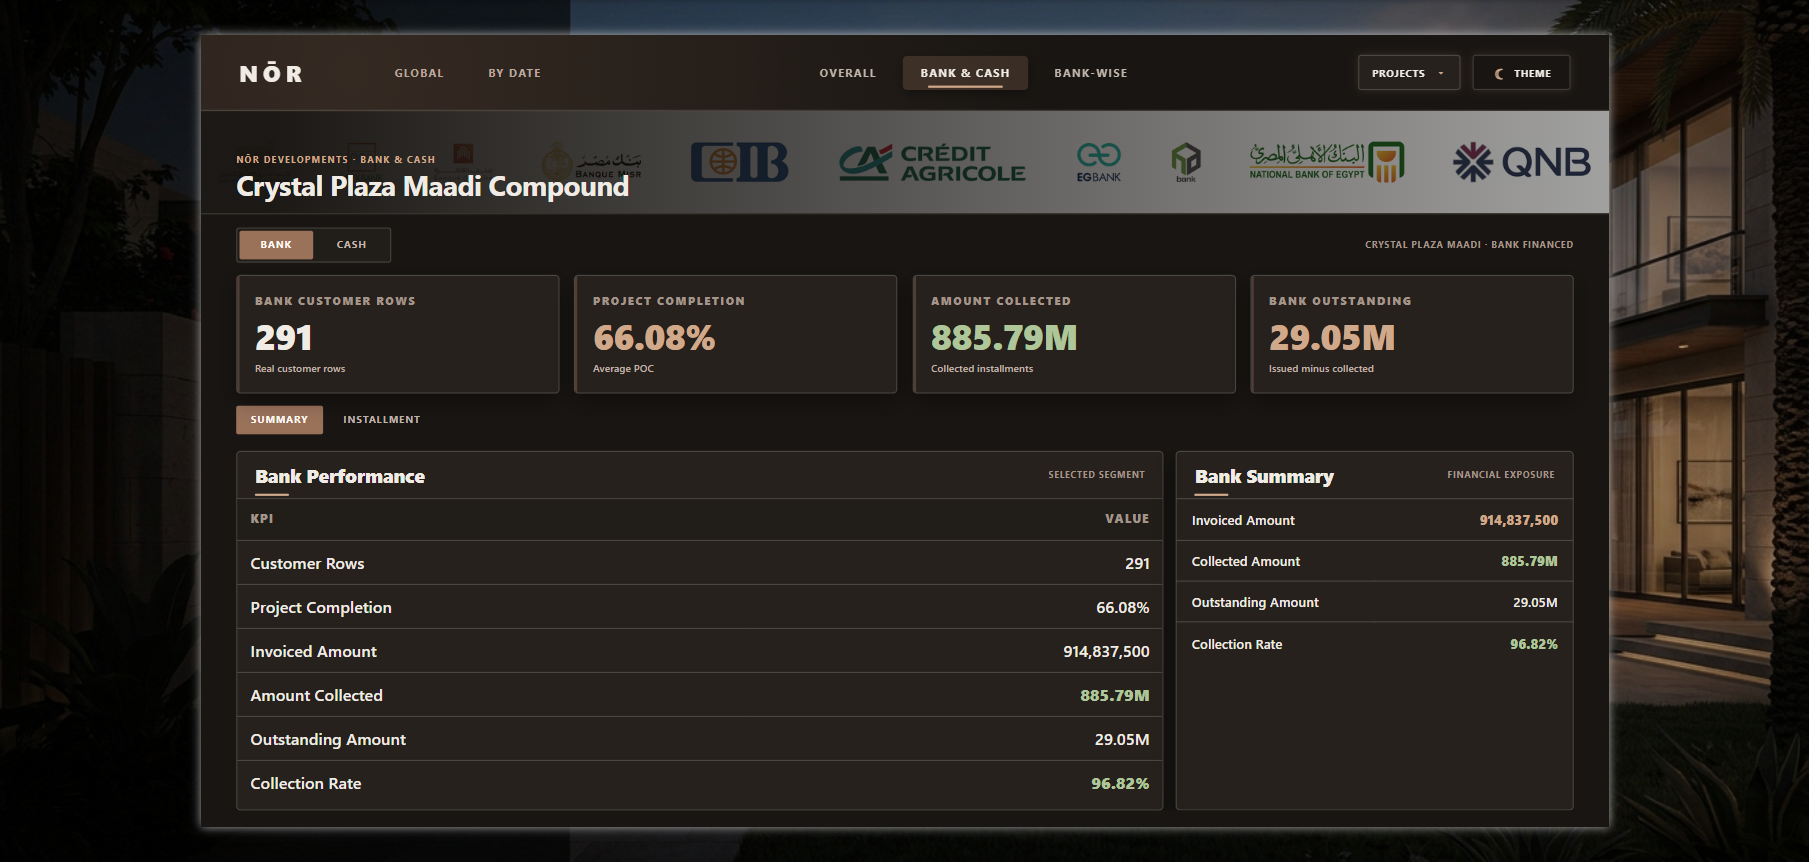

The dashboard page shown, as its layout file describes it:
{"tool":"powerbi","page":{"name":"Crystal Plaza Maadi","canvas":[1280,720],"ordinal":3},"visuals":[{"type":"htmlContent443BE3AD55E043BF878BED274D3A6855","fields":{"content":["HTML Visuals.HTML_CrystalPlaza_OnePage"]},"box":[0,0,1280,720],"z":0}]}

Visuals, with their boxes on the page's 1280x720 design canvas (x1, y1, x2, y2). These are canvas units, not pixel positions in the 1809x862 screenshot, which may show the page scaled, cropped or inside an application window:
htmlContent443BE3AD55E043BF878BED274D3A6855 - HTML Visuals.HTML_CrystalPlaza_OnePage: bbox(0, 0, 1280, 720)
